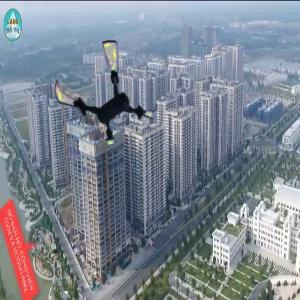drone: (55, 42, 158, 145)
